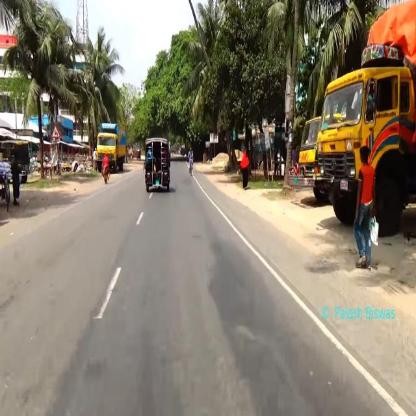truck: (324, 53, 414, 233), (300, 111, 340, 191), (96, 120, 128, 172)
